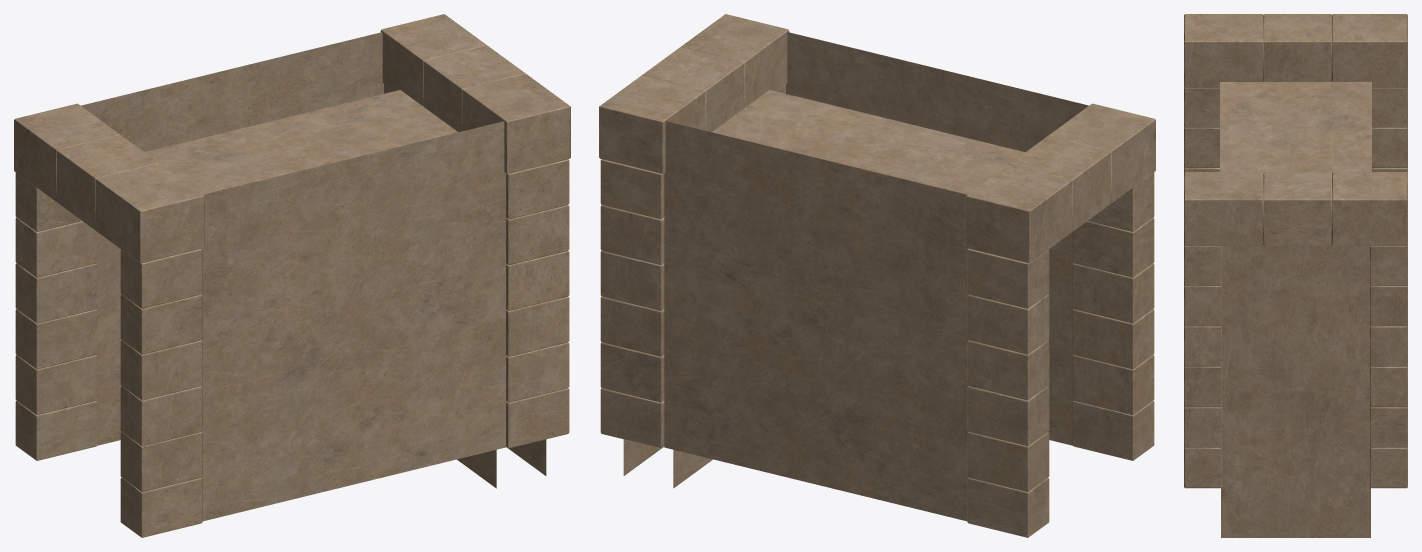
The model's file is SM_MausoleumWallsA.fbx.
3 views of the same model, side by side, from view 1: azimuth 30°, elevation 25°; view 2: azimuth 150°, elevation 25°; view 3: azimuth 270°, elevation 25° (orthographic). The views are drawn at different scales.
Parts seen in each view (by area): view 1: SM_MausoleumWallsA_LOD0; view 2: SM_MausoleumWallsA_LOD0; view 3: SM_MausoleumWallsA_LOD0.
Boxes of the visible parts, x1,y1,x2,y2 form: SM_MausoleumWallsA_LOD0: (14,14,570,537); SM_MausoleumWallsA_LOD0: (599,14,1155,537); SM_MausoleumWallsA_LOD0: (1184,14,1407,537).
Size of the model in its own units: 283 by 144 by 241.
Materials: 1 (1 with a texture image).
